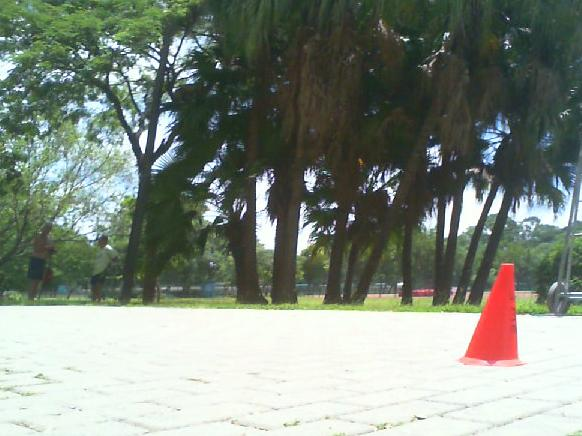0 cone: (456, 264, 526, 368)
